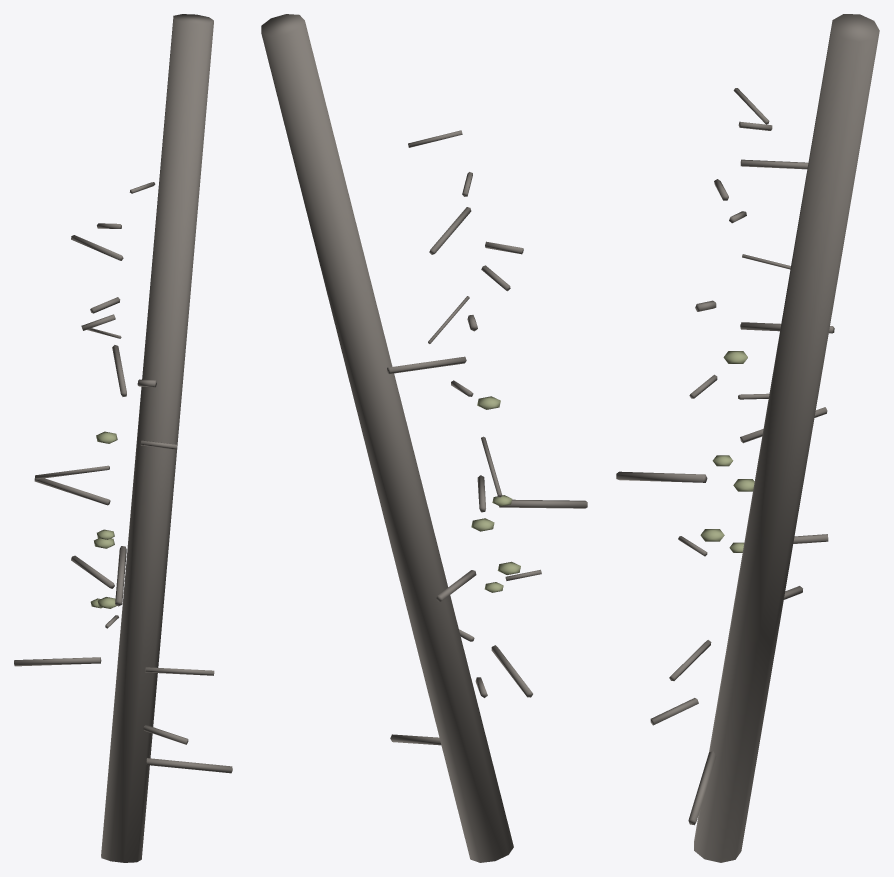
File: snag_dead_twisted.glb
3 renders of one model, left to right at view 1: azimuth 30°, elevation 25°; view 2: azimuth 150°, elevation 25°; view 3: azimuth 270°, elevation 25°, orthographic. The views are drawn at different scales.
Visible parts, largest first — view 1: snag_dead_twisted; view 2: snag_dead_twisted; view 3: snag_dead_twisted.
Boxes of the visible parts, box(x1,y1,x2,y2) form: snag_dead_twisted: box(14, 14, 232, 862); snag_dead_twisted: box(261, 14, 587, 862); snag_dead_twisted: box(616, 14, 879, 862).
Bounding box in the file's own units: 2.67 × 8.9 × 2.35.
